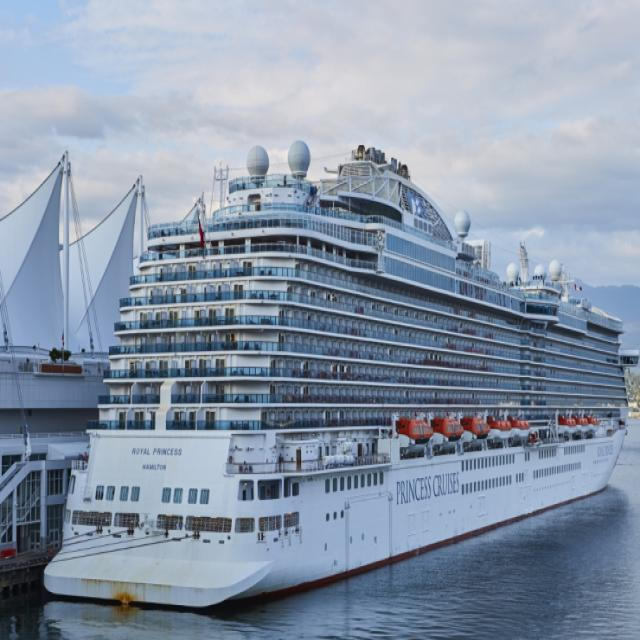cruises: (40, 135, 640, 622)
